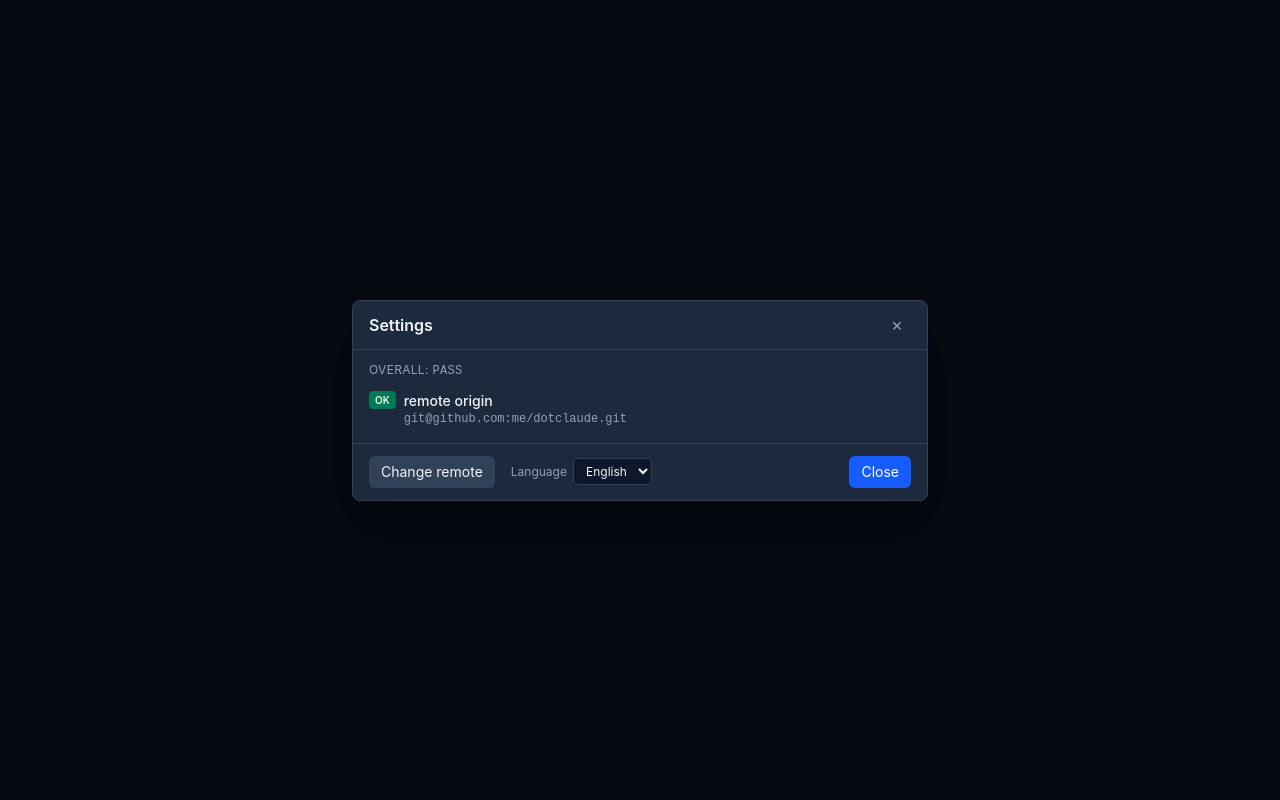
it: SettingsModal — change remote form › surfaces a Tauri error inline and keeps the modal open
expect the text "Overall: PASS" is shown: met, box [369,362,462,378]
Click the button "Change remote" at (432, 472), box [369,456,495,488]
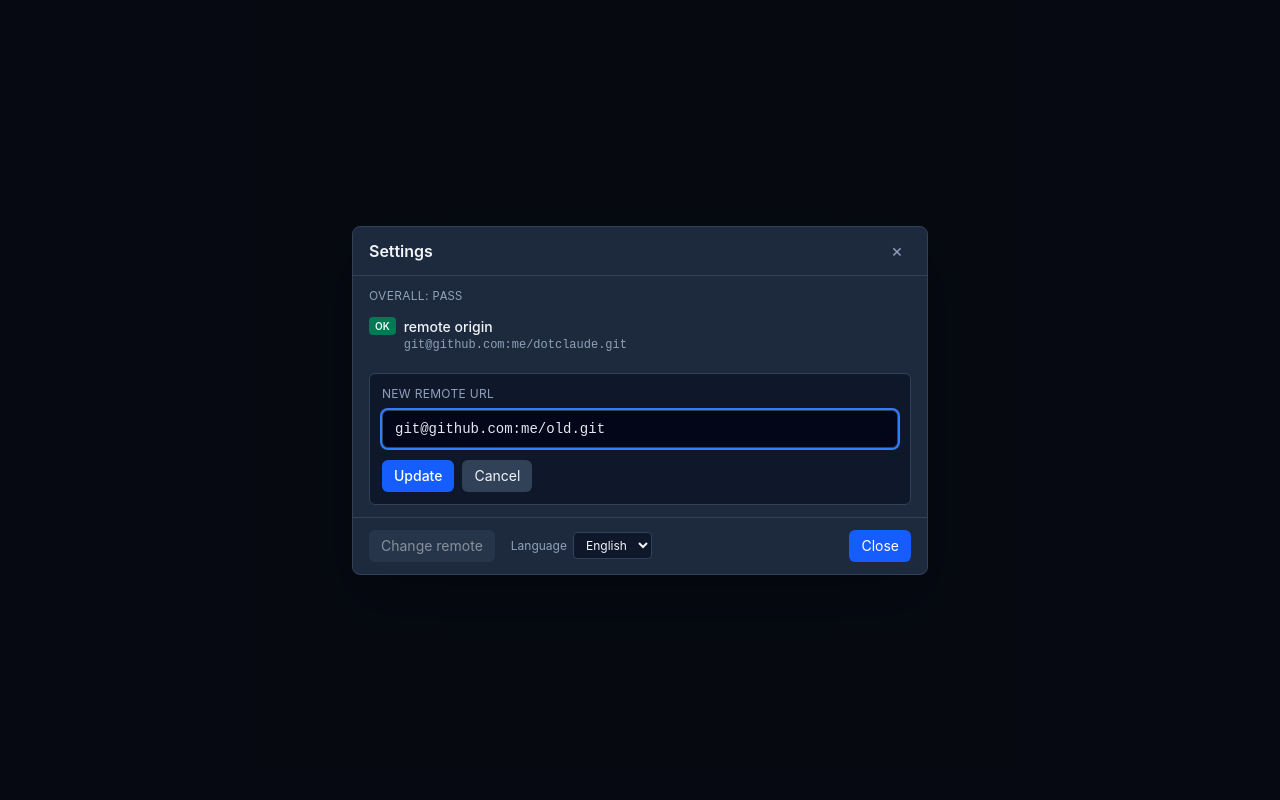
Type "git@github.com:me/new.git" into the field labelled "New remote URL" at (640, 428), box [382,410,898,448]
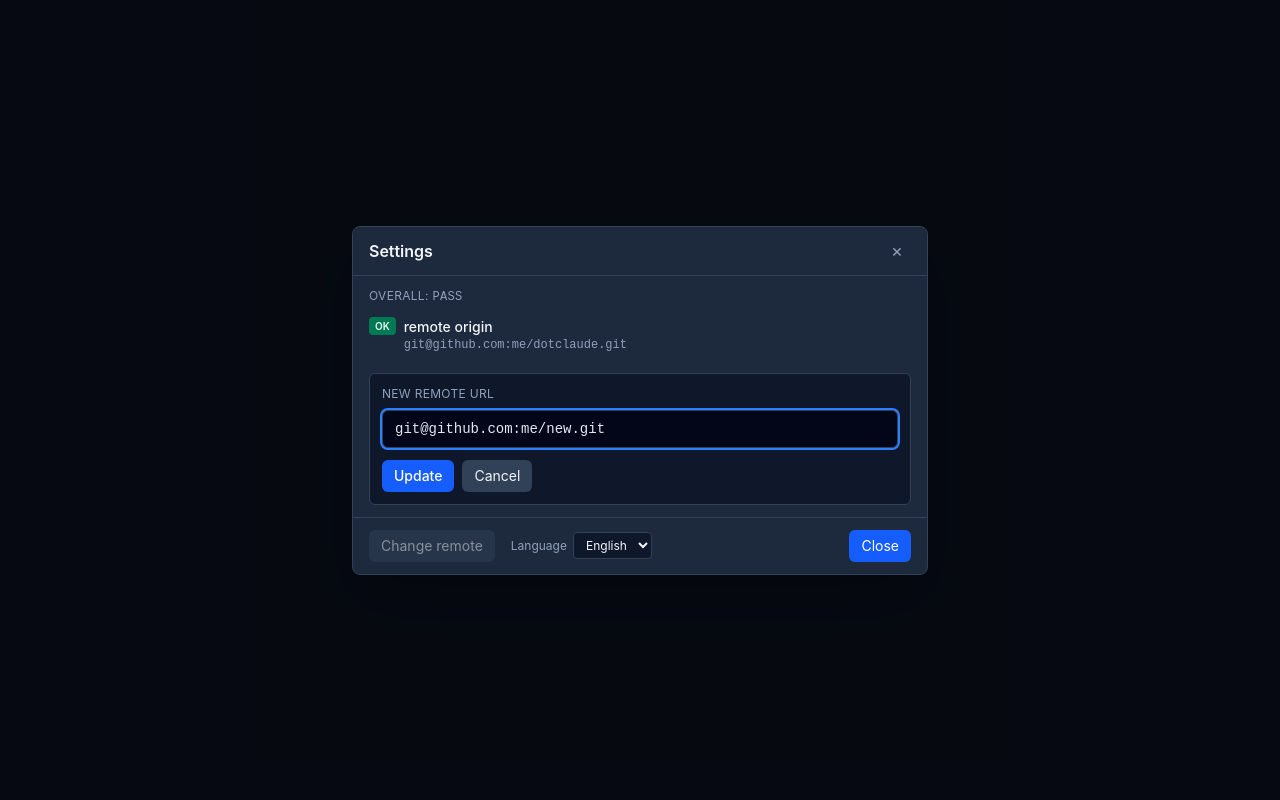
Click the button "Update" at (418, 476), box [382,460,454,492]
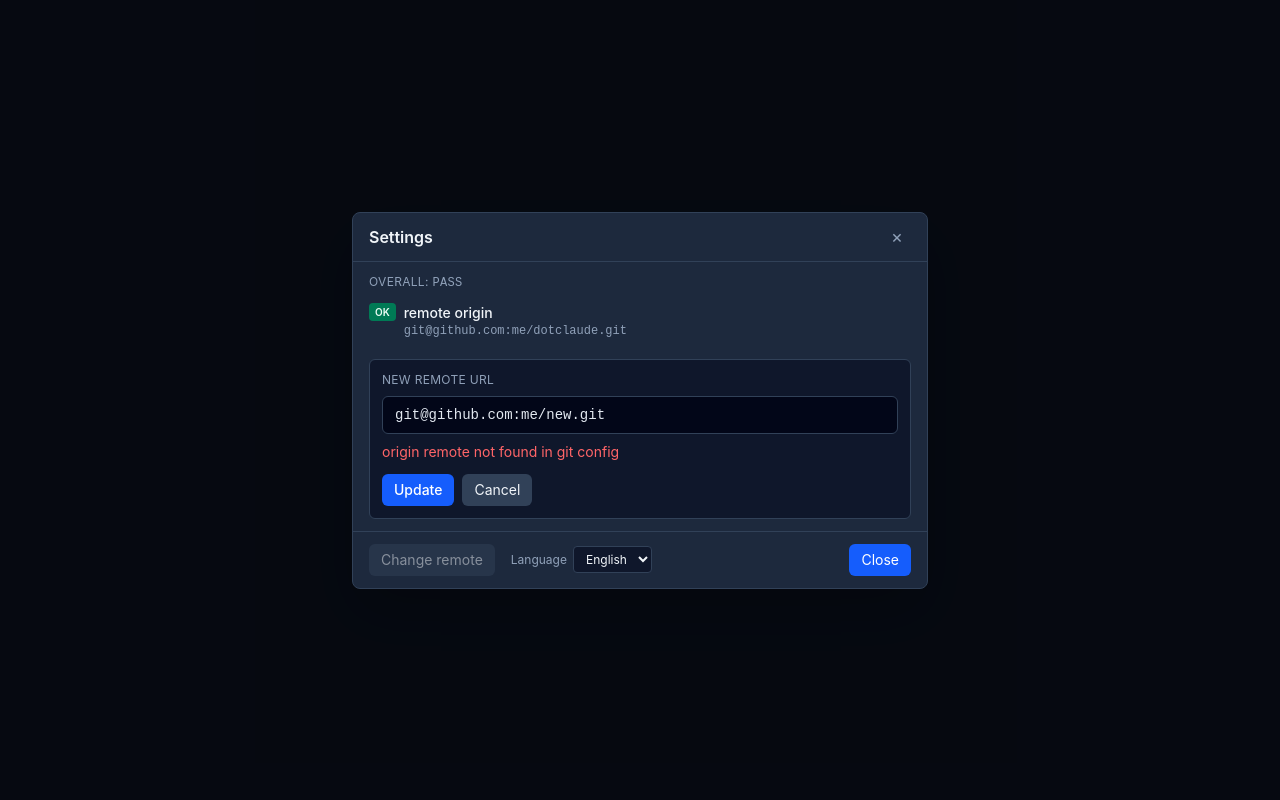
expect the message shows "origin remote not found": met, box [382,442,619,460]
